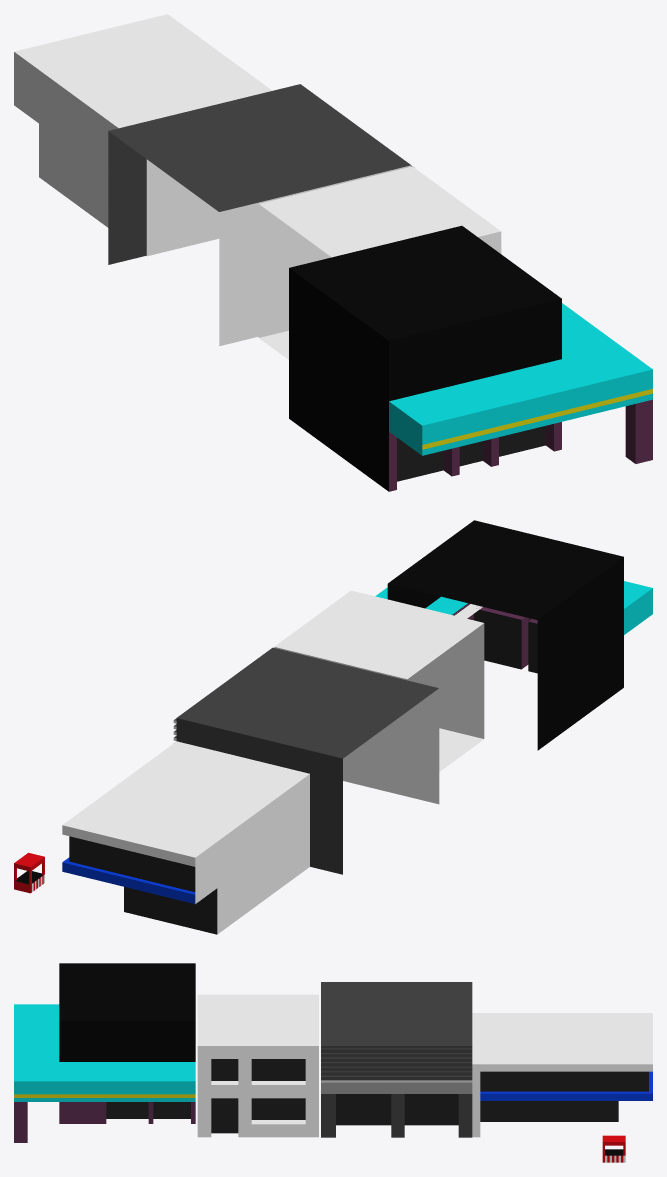
Rendered from Edificio-4-Derecha.fbx.
The picture shows the model from 3 angles, top to bottom: view 1: azimuth 30°, elevation 25°; view 2: azimuth 150°, elevation 25°; view 3: azimuth 270°, elevation 25°; orthographic projection. The views are drawn at different scales.
Parts seen in each view (by area): view 1: Plane; view 2: Plane; view 3: Plane.
Part boxes in pixels (x1,y1,x2,y2): Plane: (14,14,652,491); Plane: (14,520,652,934); Plane: (14,963,652,1162).
Size of the model in its own units: 3011 by 1500 by 8435.
